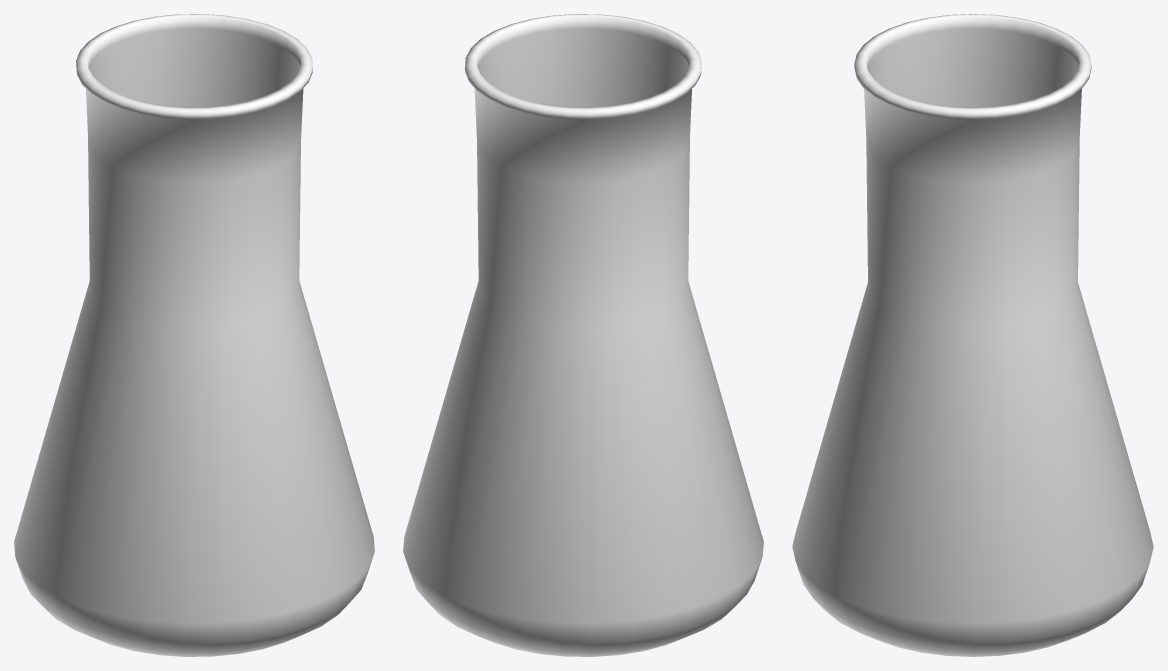
Rendered from wide_flask.glb.
3 views of the same model, side by side, from view 1: azimuth 30°, elevation 25°; view 2: azimuth 150°, elevation 25°; view 3: azimuth 270°, elevation 25° (orthographic).
Visible parts, largest first — view 1: Weithalskolben; view 2: Weithalskolben; view 3: Weithalskolben.
Boxes of the visible parts, <box> form: Weithalskolben: <box>14,14,374,656</box>; Weithalskolben: <box>403,14,763,656</box>; Weithalskolben: <box>792,14,1153,656</box>.
Size of the model in its own units: 0.0526 by 0.0883 by 0.0526.
Materials: 1 (1 with a texture image).
